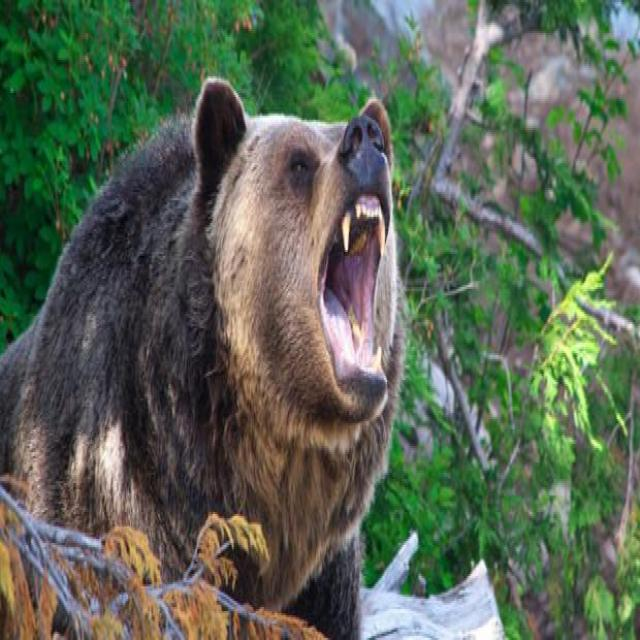Bear: (0, 78, 409, 640)
